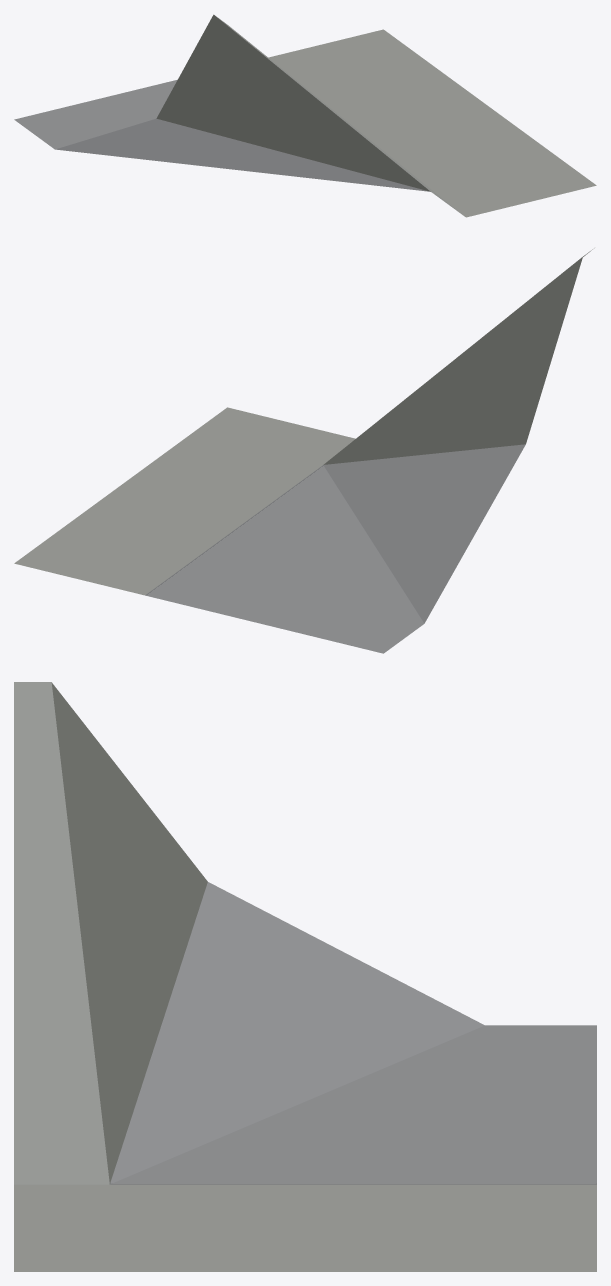
3 views of the same model, one above another, from view 1: azimuth 30°, elevation 25°; view 2: azimuth 150°, elevation 25°; view 3: azimuth 270°, elevation 25° (orthographic). The views are drawn at different scales.
Size of the model in its own units: 0.983 by 0.6386 by 0.983.
1 material, 1 textured.
